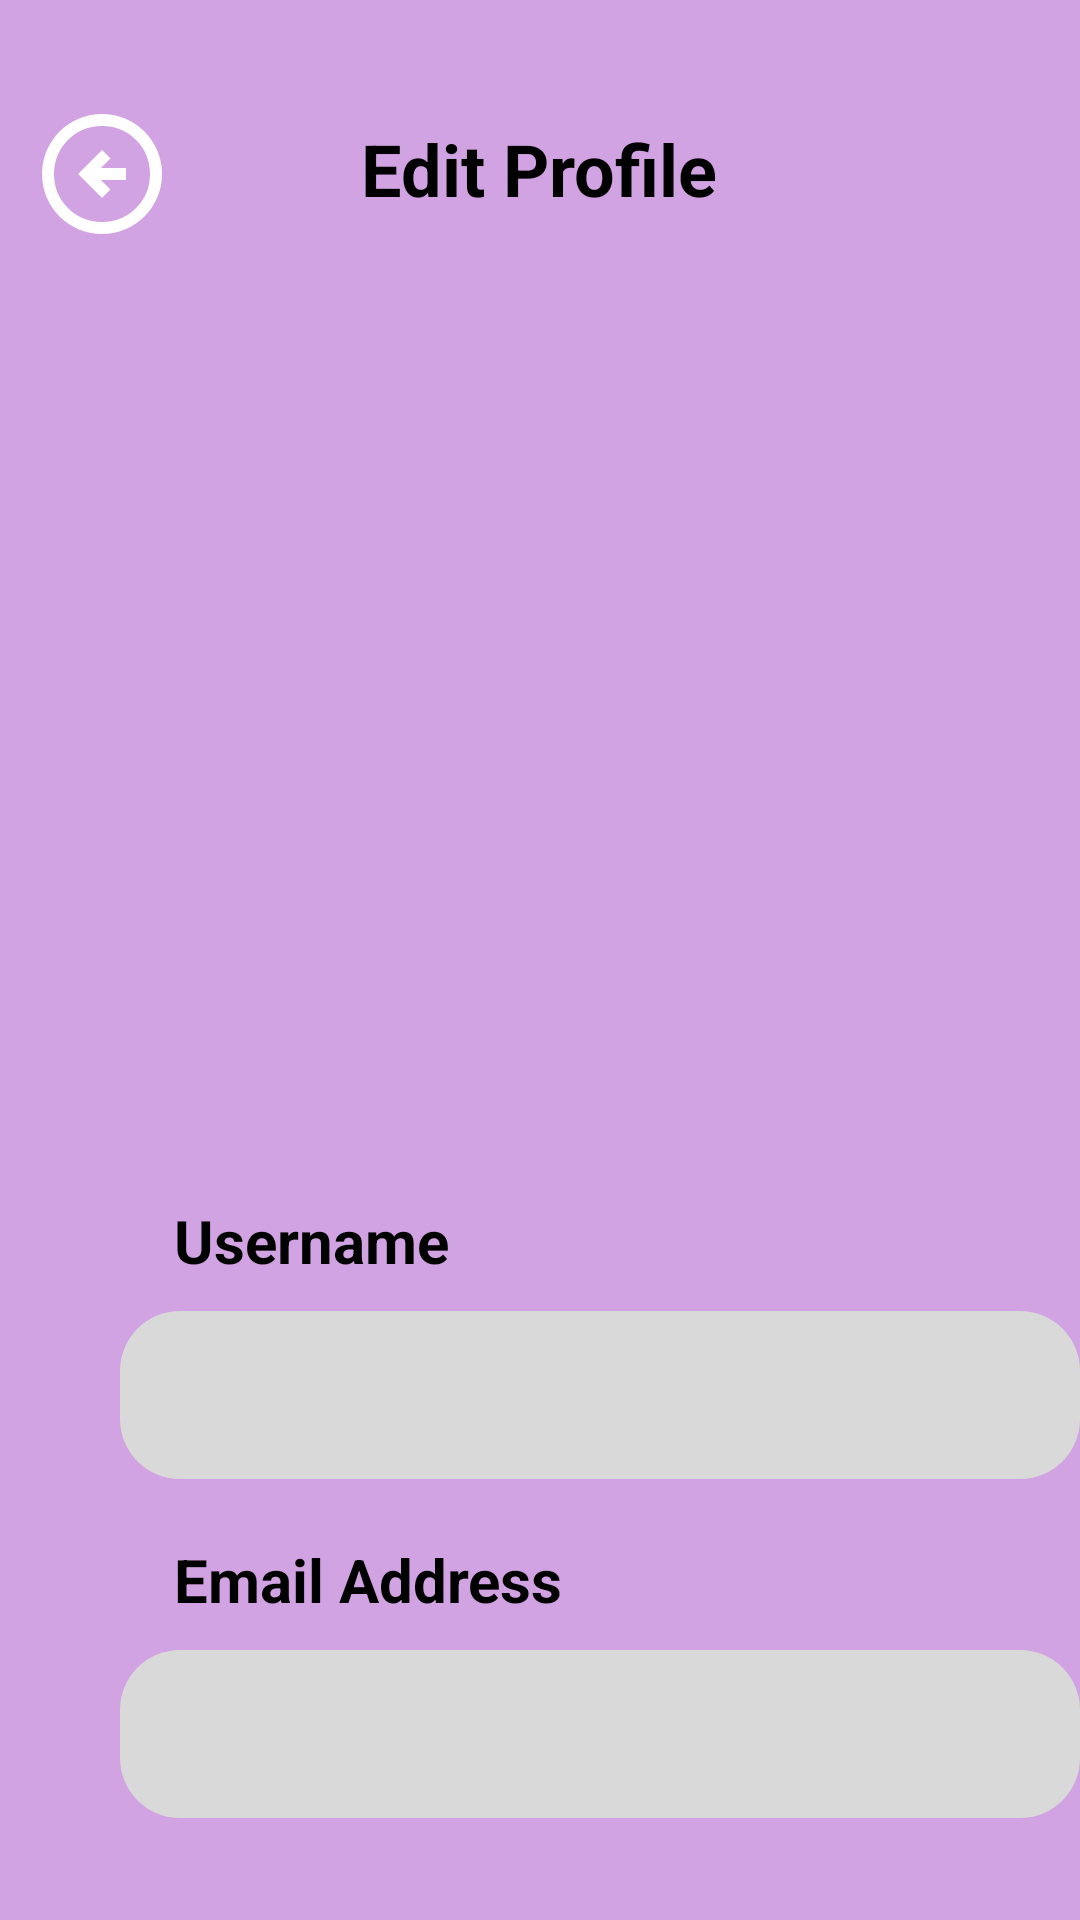

Point at icon controls on the screen. Image size 1080x1920, points as (x,y).
Back: (102,174)
